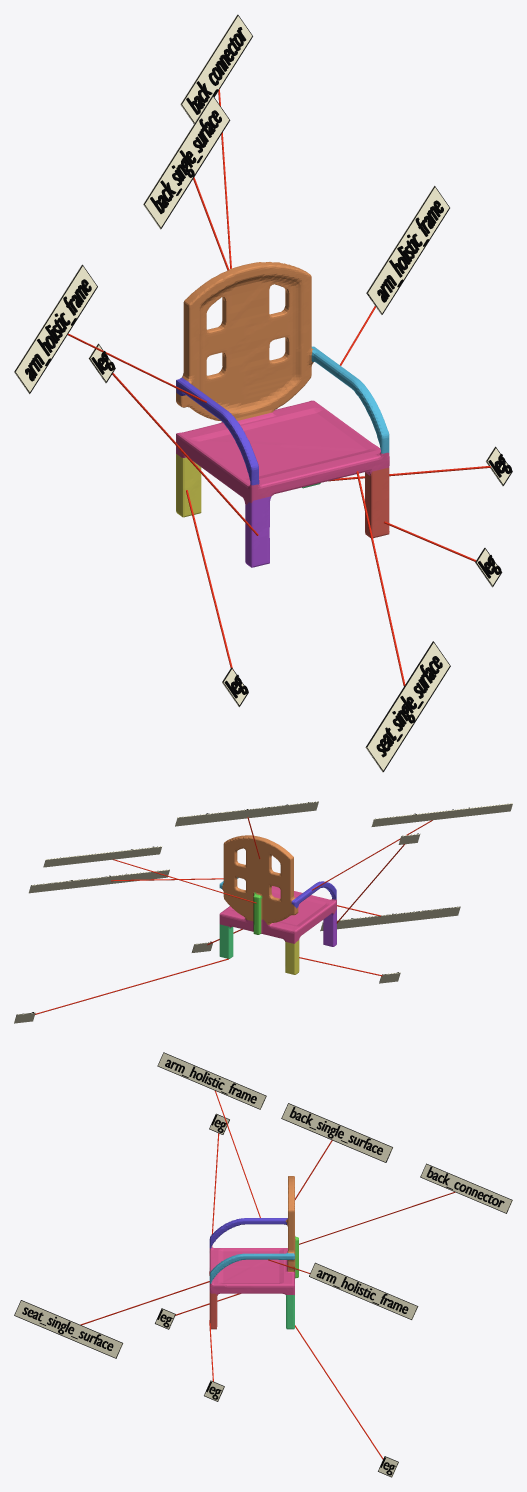
Rendered from 38844-main-O.obj.
3 views of the same model, one above another, from view 1: azimuth 30°, elevation 25°; view 2: azimuth 150°, elevation 25°; view 3: azimuth 270°, elevation 25° (orthographic). The views are drawn at different scales.
Parts seen in each view (by area): view 1: 38844-P, label_back_single_surface_3_17, label_seat_single_surface_11_12, label_arm_holistic_frame_8_13, label_arm_holistic_frame_6_14, label_back_connector_4_16; view 2: 38844-P, label_back_single_surface_3_17, label_arm_holistic_frame_8_13, label_seat_single_surface_11_12, label_arm_holistic_frame_6_14, label_back_connector_4_16, leader_leg_15_8; view 3: 38844-P, label_back_single_surface_3_17, label_seat_single_surface_11_12, label_arm_holistic_frame_8_13, label_arm_holistic_frame_6_14, label_back_connector_4_16.
Boxes of the visible parts, <box> form: 38844-P: <box>176,262,389,567</box>; label_back_single_surface_3_17: <box>143,95,230,229</box>; label_seat_single_surface_11_12: <box>365,641,450,772</box>; label_arm_holistic_frame_8_13: <box>14,264,97,393</box>; label_arm_holistic_frame_6_14: <box>366,186,449,314</box>; label_back_connector_4_16: <box>180,14,252,123</box>; 38844-P: <box>219,835,336,974</box>; label_back_single_surface_3_17: <box>175,801,318,826</box>; label_arm_holistic_frame_8_13: <box>371,803,512,826</box>; label_seat_single_surface_11_12: <box>320,906,460,931</box>; label_arm_holistic_frame_6_14: <box>28,869,169,893</box>; label_back_connector_4_16: <box>43,846,161,867</box>; leader_leg_15_8: <box>35,958,228,1014</box>; 38844-P: <box>209,1176,298,1329</box>; label_back_single_surface_3_17: <box>281,1103,393,1162</box>; label_seat_single_surface_11_12: <box>14,1300,123,1358</box>; label_arm_holistic_frame_8_13: <box>157,1052,266,1109</box>; label_arm_holistic_frame_6_14: <box>309,1262,418,1319</box>; label_back_connector_4_16: <box>420,1163,512,1213</box>.
Bounding box in the file's own units: 4.79 × 2.92 × 5.28.
